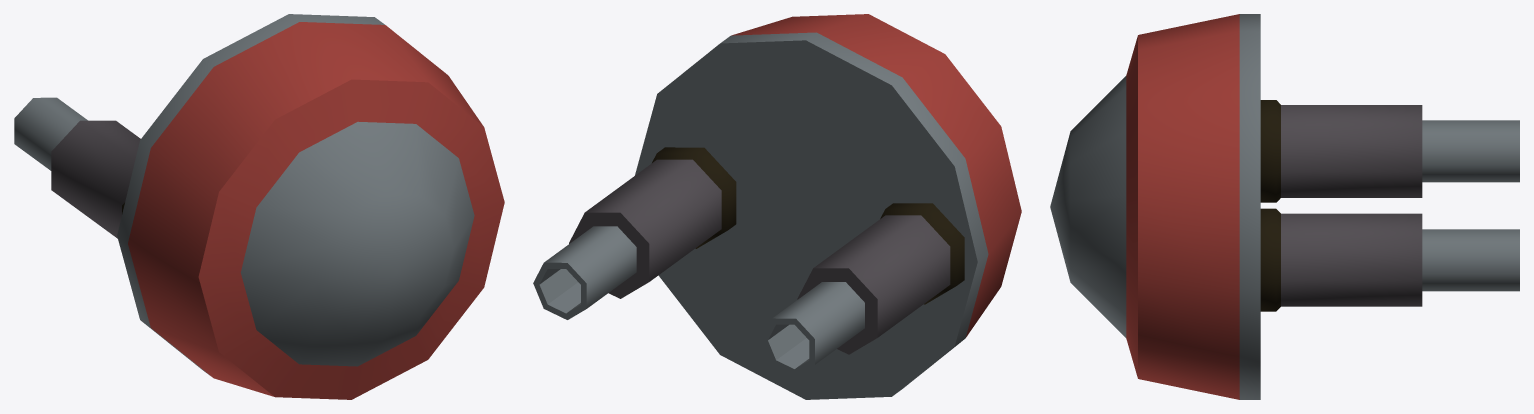
The model's file is sc_enemy_swizzo.FBX.
3 views of the same model, side by side, from view 1: azimuth 30°, elevation 25°; view 2: azimuth 150°, elevation 25°; view 3: azimuth 270°, elevation 25° (orthographic). The views are drawn at different scales.
Visible parts, largest first — view 1: swizzo; view 2: swizzo; view 3: swizzo.
Part boxes in pixels (box(x1,y1,x2,y2)): swizzo: box(14, 14, 504, 399); swizzo: box(533, 14, 1021, 399); swizzo: box(1050, 14, 1519, 399).
Size of the model in its own units: 0.9503 by 0.9503 by 1.15.
